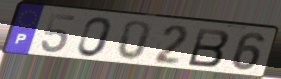0: (76, 16, 115, 59), (115, 20, 153, 63)
2: (153, 24, 190, 67)
5: (39, 12, 77, 54)
6: (230, 31, 267, 73)
B: (186, 27, 232, 69)
